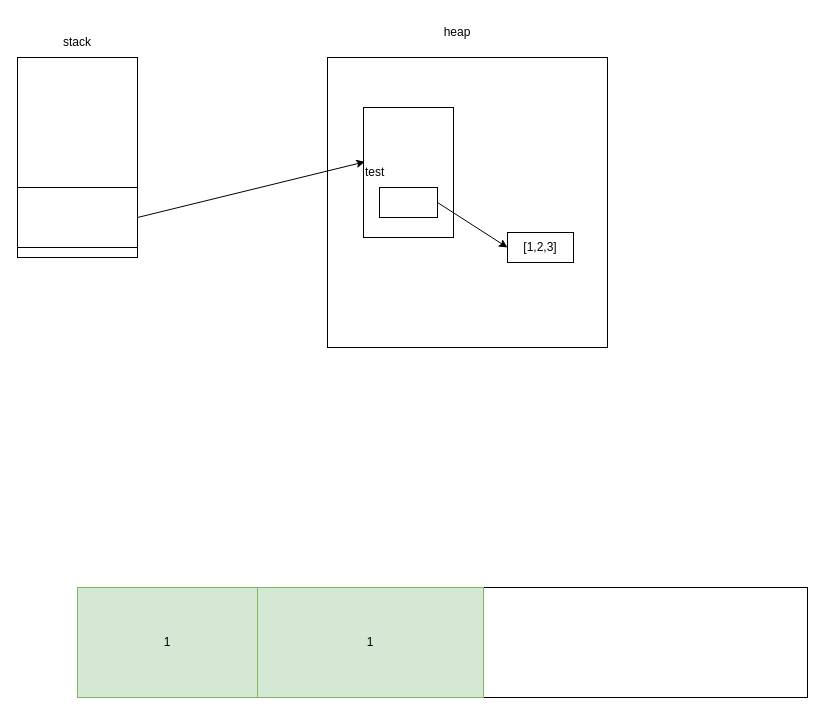
Some shapes in this 825 by 715 pixel diagram are drawn without their labels. The shapes that lost their labels are listed below. From the top down, each one's box as (x1, y1, x2, y2) in pixels, then its label:
(16, 186, 138, 248): test 1
(378, 186, 438, 218): a 1
